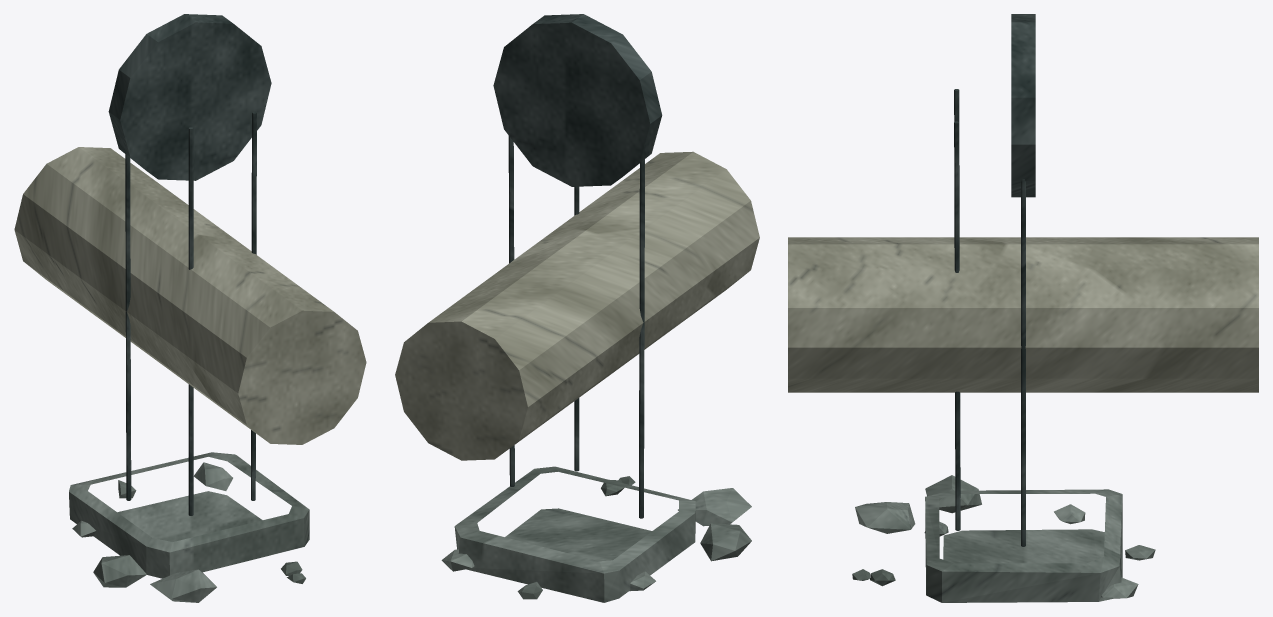
Rendered from 0261_broken_column_11.glb.
3 renders of one model, left to right at view 1: azimuth 30°, elevation 25°; view 2: azimuth 150°, elevation 25°; view 3: azimuth 270°, elevation 25°, orthographic. The views are drawn at different scales.
Parts seen in each view (by area): view 1: stone_light, stone_dark, stone; view 2: stone_light, stone_dark, stone; view 3: stone_light, stone, stone_dark.
Boxes of the visible parts, x1,y1,x2,y2 form: stone_light: [14, 147, 366, 444]; stone_dark: [108, 14, 271, 515]; stone: [69, 452, 309, 602]; stone_light: [395, 151, 759, 460]; stone_dark: [493, 14, 662, 518]; stone: [441, 466, 751, 602]; stone_light: [788, 237, 1258, 392]; stone: [852, 475, 1155, 602]; stone_dark: [954, 14, 1035, 546].
Size of the model in its own units: 1.58 by 3.72 by 2.92.
3 materials, 3 textured.
